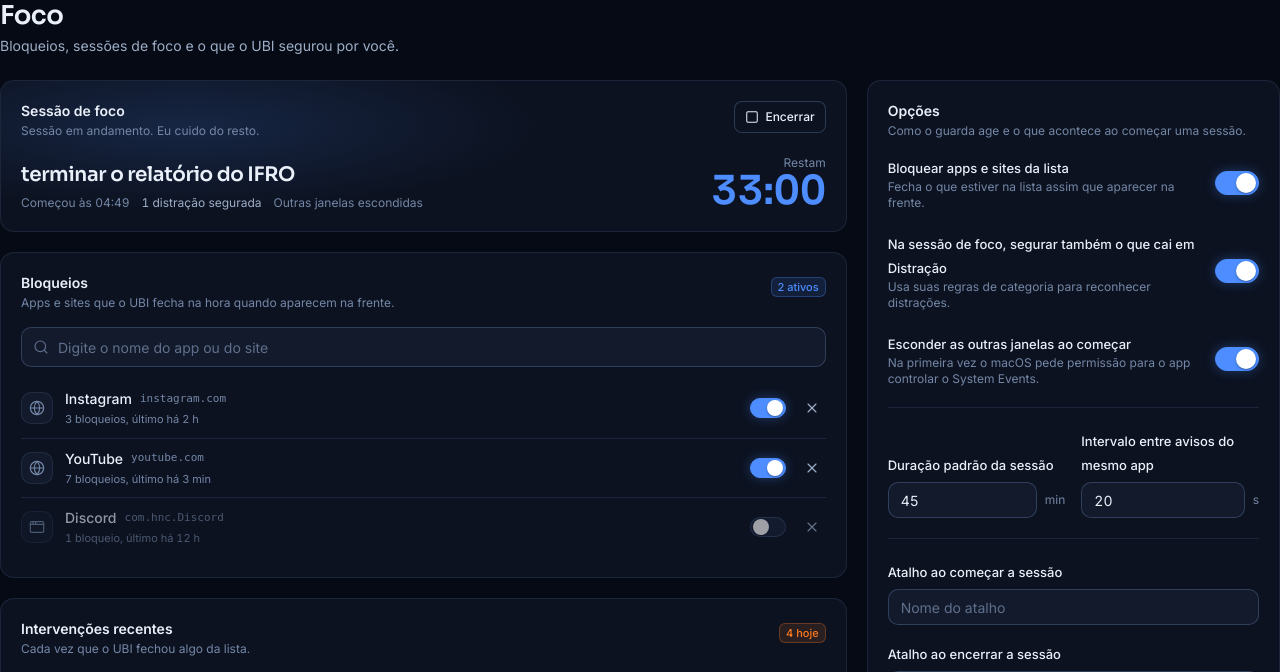
Test: Focus page (mock backend) › thanks for a session stopped by hand after five minutes or more
Expected: the text "33:00" is shown, x1=711 y1=171 x2=826 y2=211
Step 1. Click the button "Encerrar" → coordinates (780, 117), box x1=734 y1=101 x2=826 y2=133
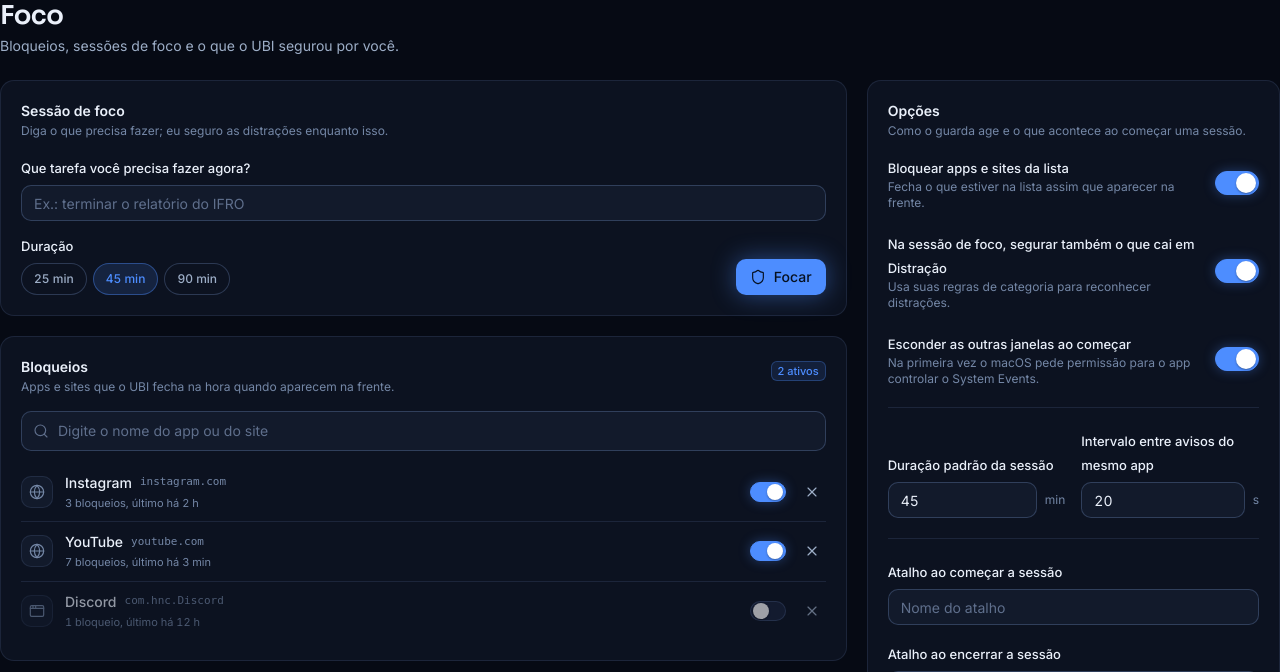
Now the button "Focar" is shown, box x1=736 y1=258 x2=826 y2=294
